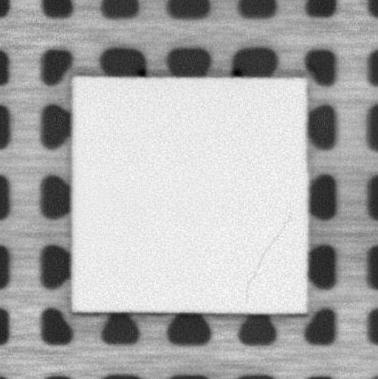DIE_CRACK: (243, 215, 293, 301)
